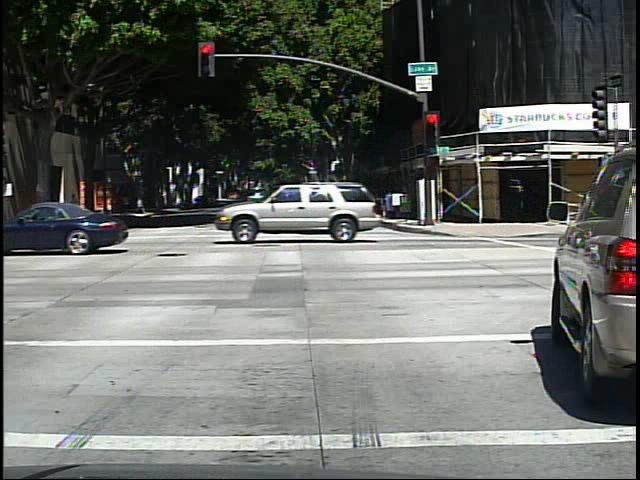person: (66, 188, 82, 223)
